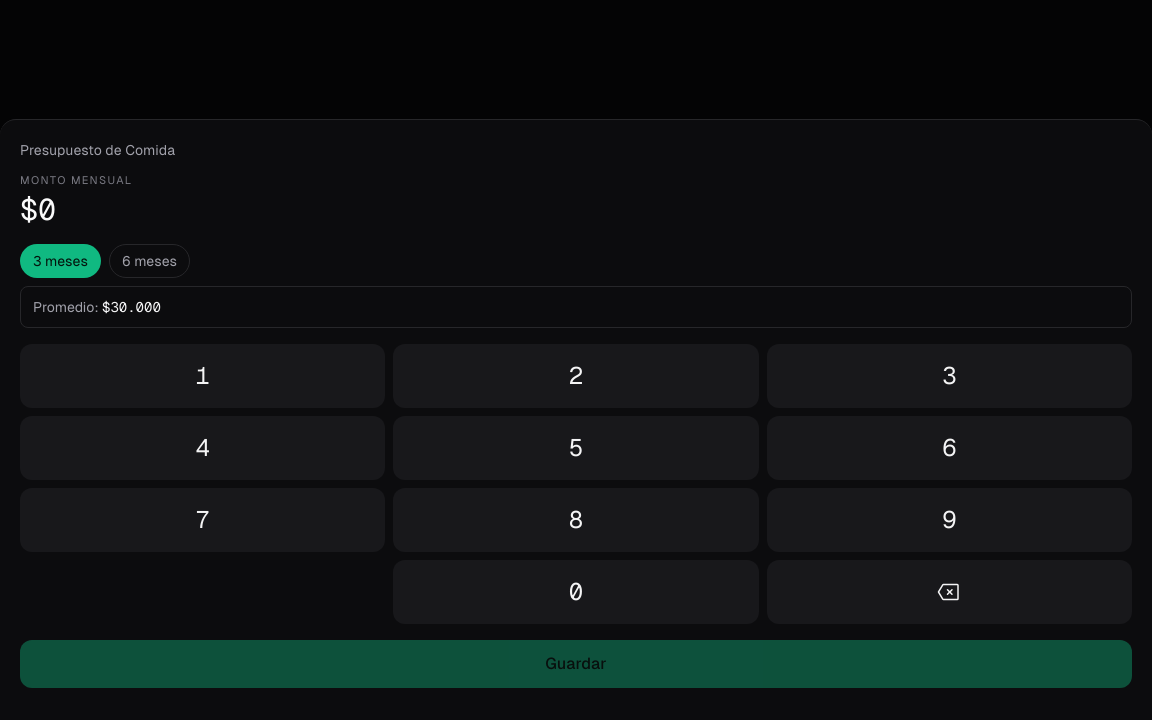
Test case: BudgetSheet › should_Recompute_When_WindowSwitchedTo6
Step 1. Click the button "6 meses" → (149, 261), box [109, 244, 190, 278]
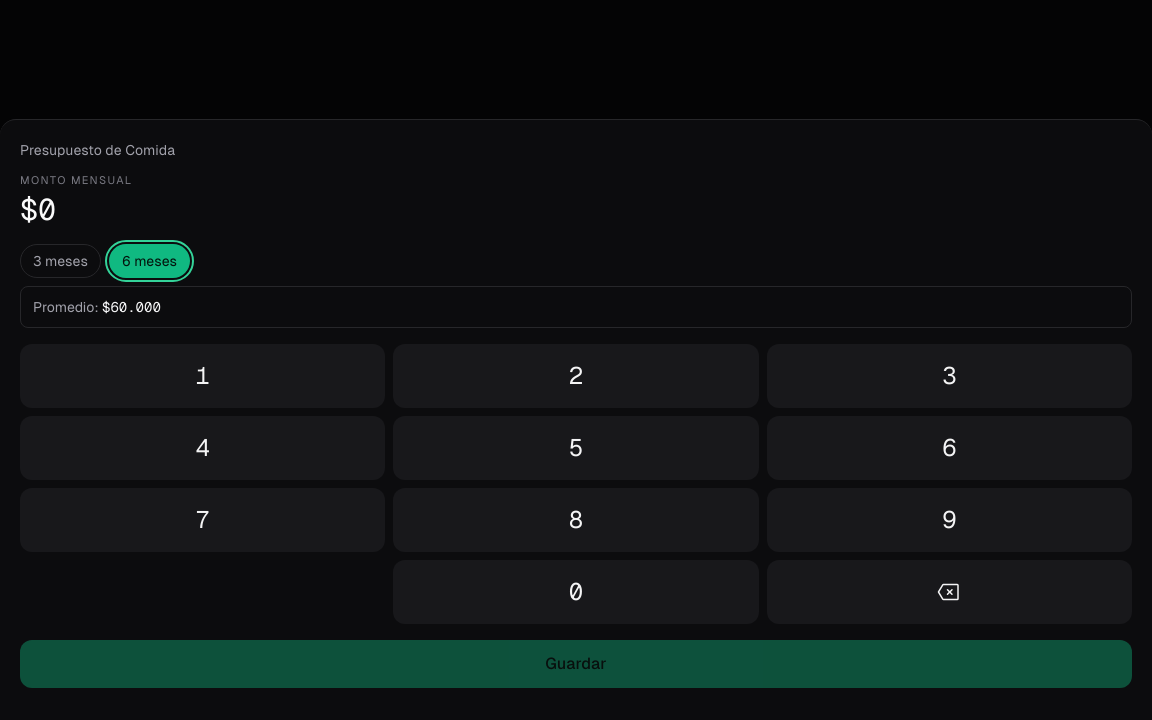
Expected: the text "$60.000" is shown, [102, 298, 161, 316]
